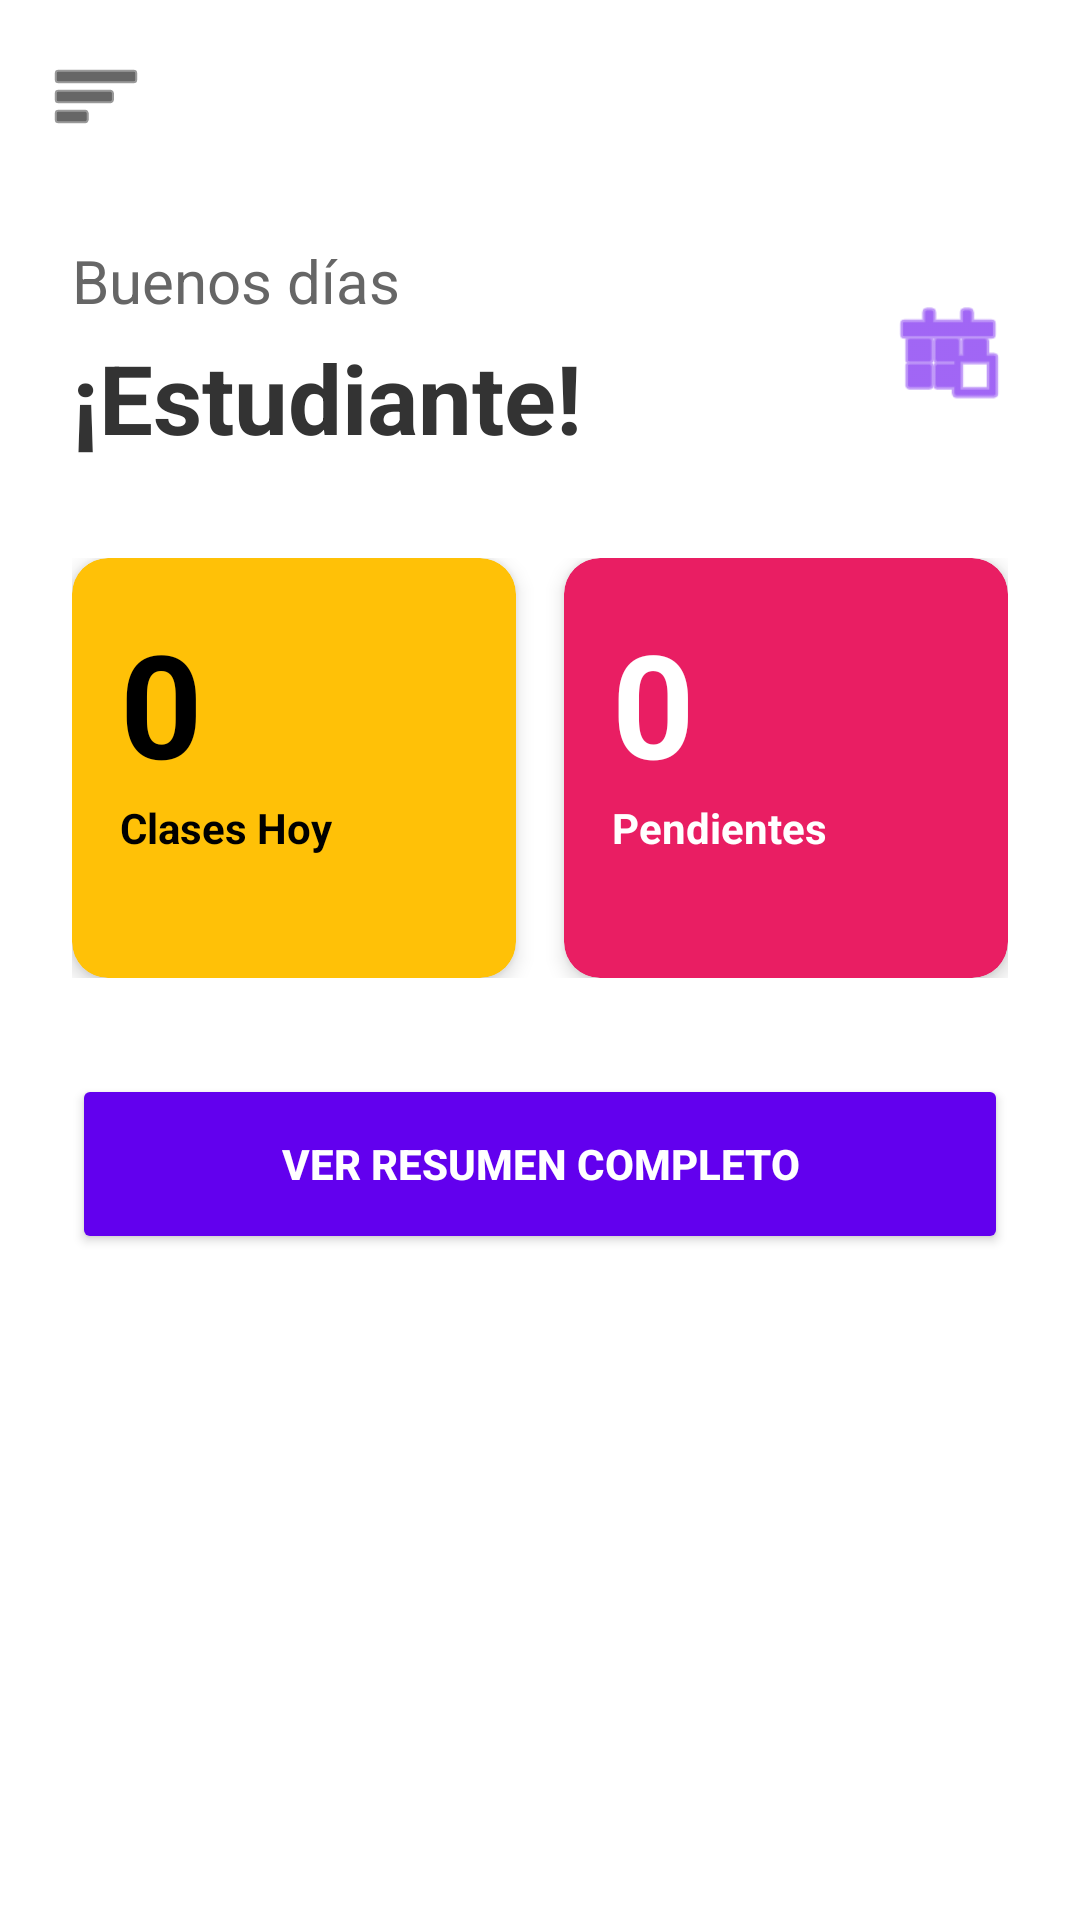

Icons on this 1080 x 1920 Android screen, each with the point to tap as [x,y]:
Menu: [96,96]
